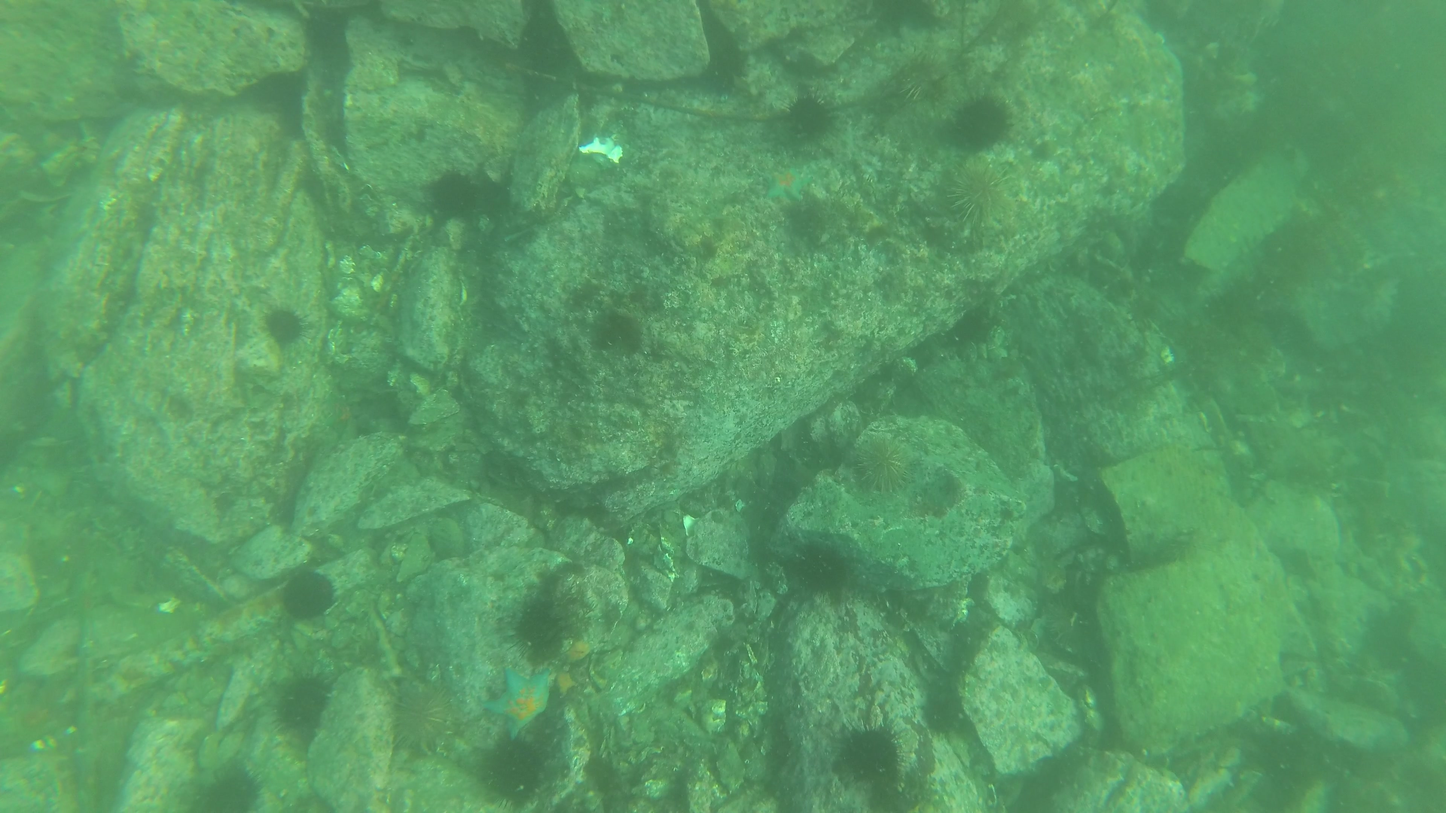holothurian: (485, 662, 564, 744), (761, 163, 820, 205)
scallop: (576, 131, 625, 171)
starfish: (939, 152, 1022, 239), (383, 684, 465, 760), (831, 721, 910, 788), (951, 87, 1028, 155), (267, 668, 341, 734), (851, 422, 918, 494), (502, 603, 573, 668), (277, 565, 347, 626), (185, 761, 267, 813), (778, 84, 843, 146), (420, 163, 480, 226), (886, 52, 956, 103), (260, 301, 319, 358)
